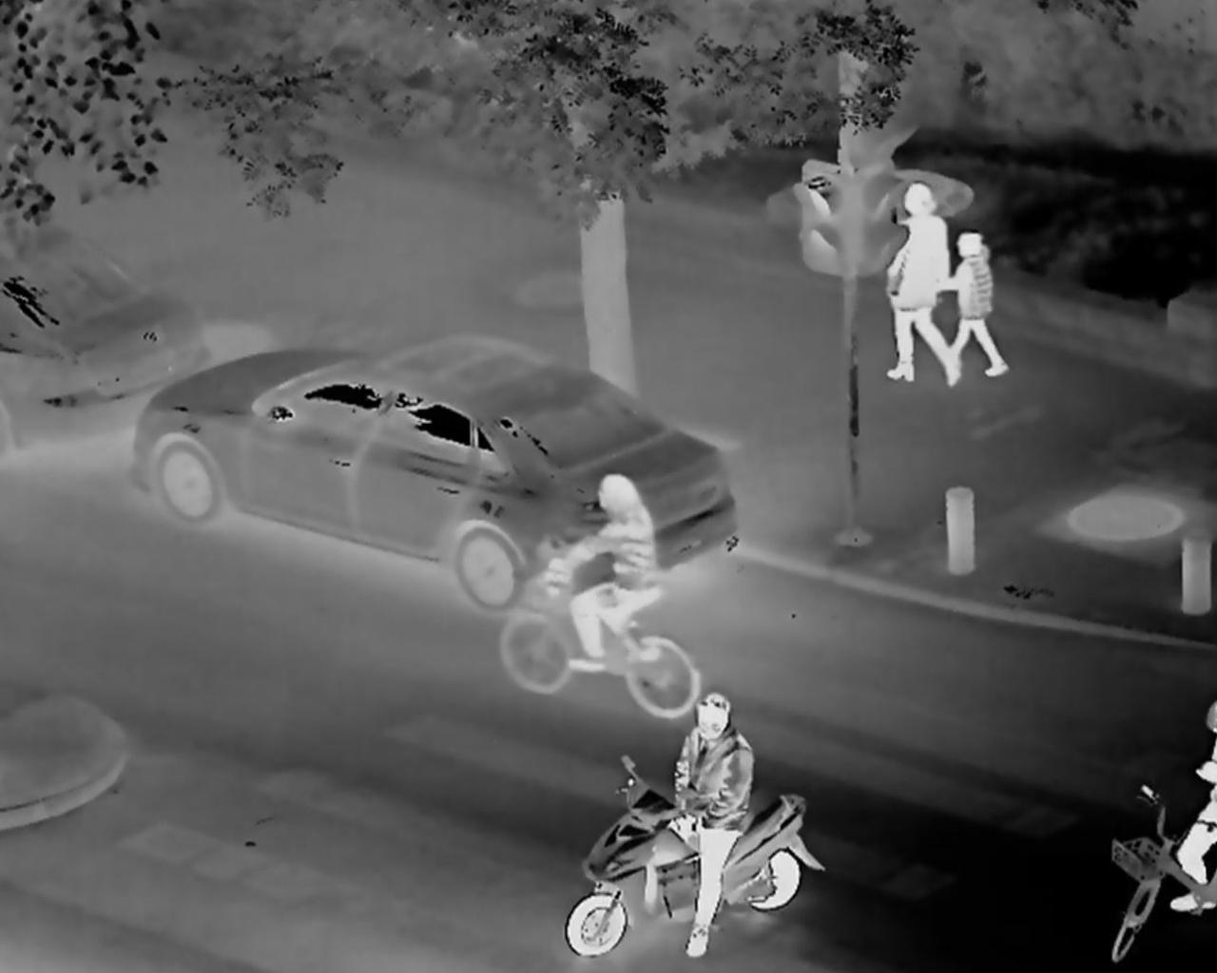person: (541, 468, 665, 675), (655, 689, 746, 957), (875, 173, 953, 388), (1176, 694, 1217, 907), (952, 229, 1008, 375)
